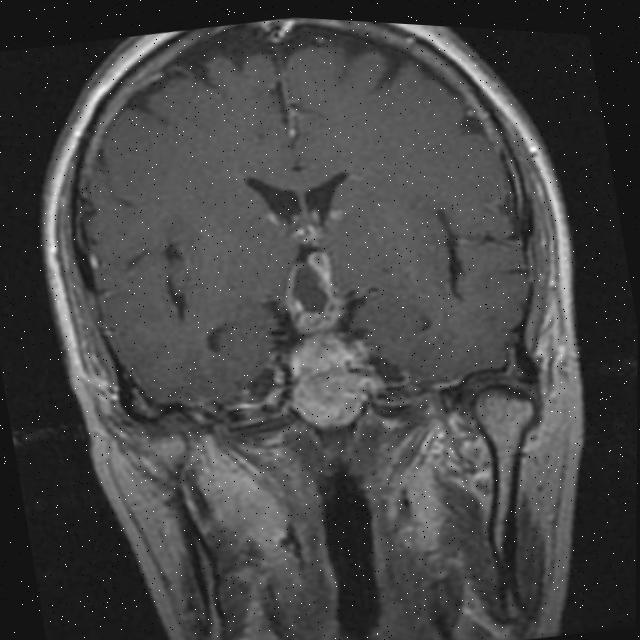Pituitary: (280, 326, 377, 437), (275, 246, 348, 343)
